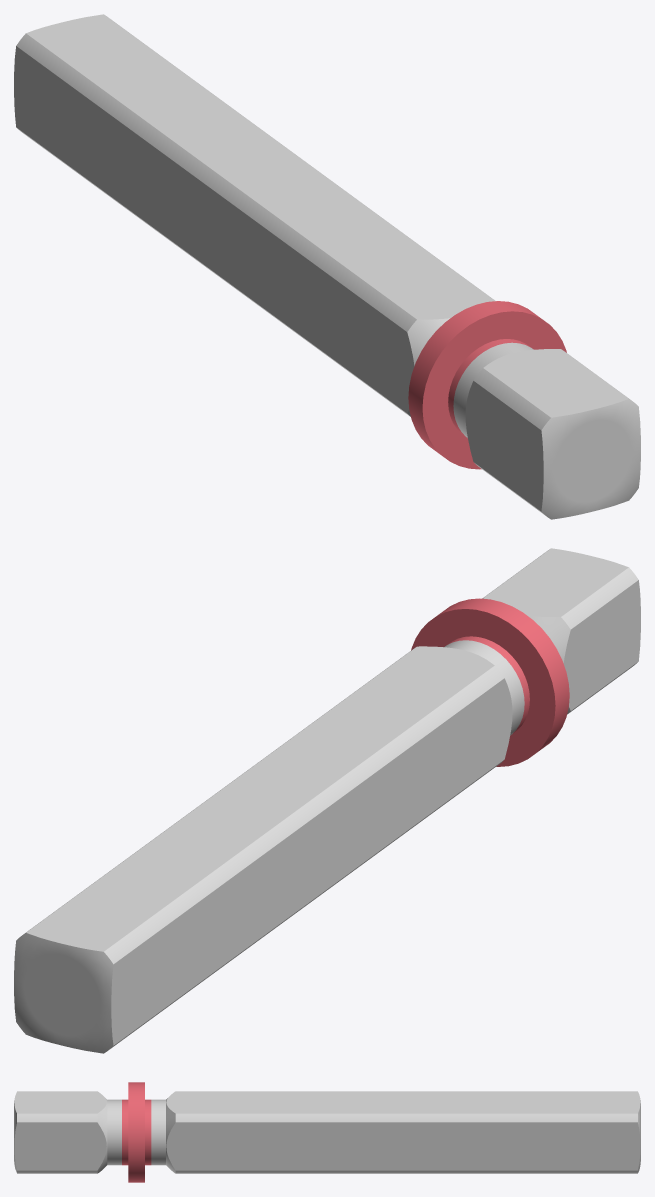
3 views of the same model, one above another, from view 1: azimuth 30°, elevation 25°; view 2: azimuth 150°, elevation 25°; view 3: azimuth 270°, elevation 25° (orthographic). The views are drawn at different scales.
Parts seen in each view (by area): view 1: main_ffffff, cad_d22630; view 2: main_ffffff, cad_d22630; view 3: main_ffffff, cad_d22630.
Boxes of the visible parts, left/top/right/bottom form: main_ffffff: left=14, top=14, right=640, bottom=519; cad_d22630: left=408, top=301, right=566, bottom=469; main_ffffff: left=14, top=548, right=640, bottom=1053; cad_d22630: left=411, top=598, right=569, bottom=766; main_ffffff: left=14, top=1091, right=640, bottom=1173; cad_d22630: left=122, top=1082, right=151, bottom=1182.
Bounding box in the file's own units: 4.8 × 4.79 × 29.97.
